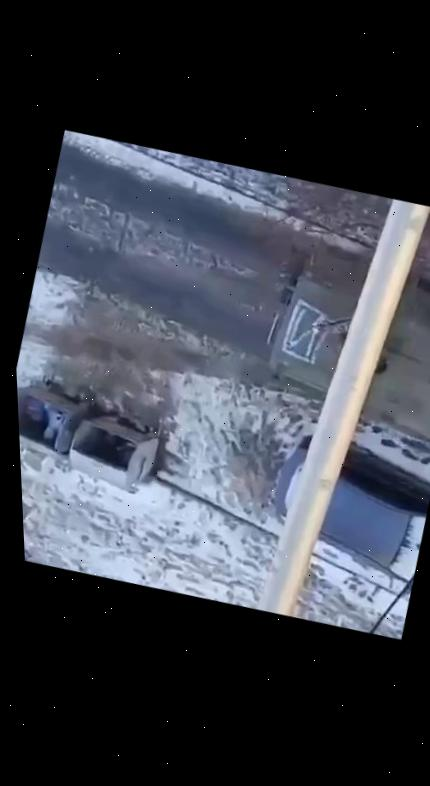armored_car: (237, 232, 430, 469)
car: (251, 422, 430, 605)
